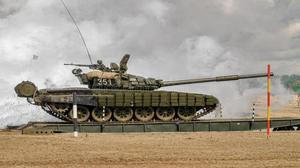t72: (14, 60, 267, 118)
